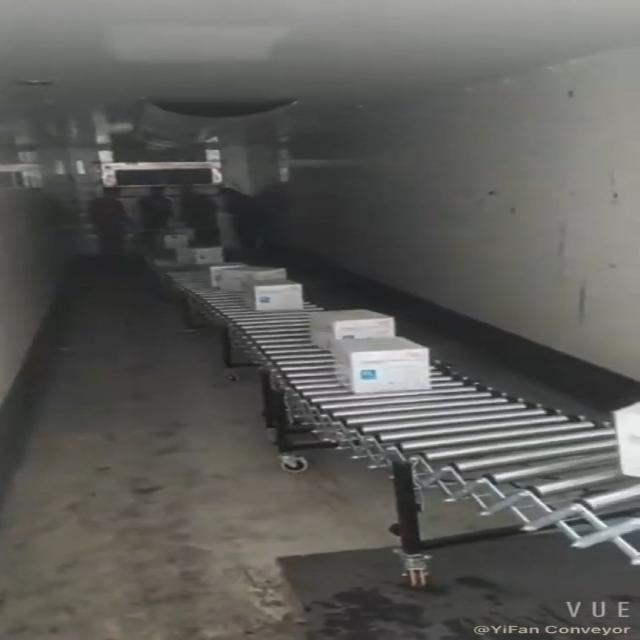Convoyeur: (130, 232, 640, 565)
